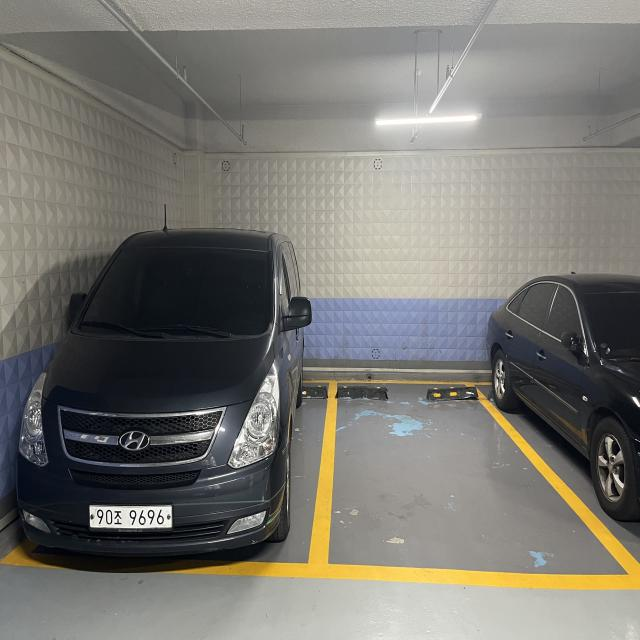empty: (298, 368, 640, 594)
occupied: (7, 204, 316, 576)
